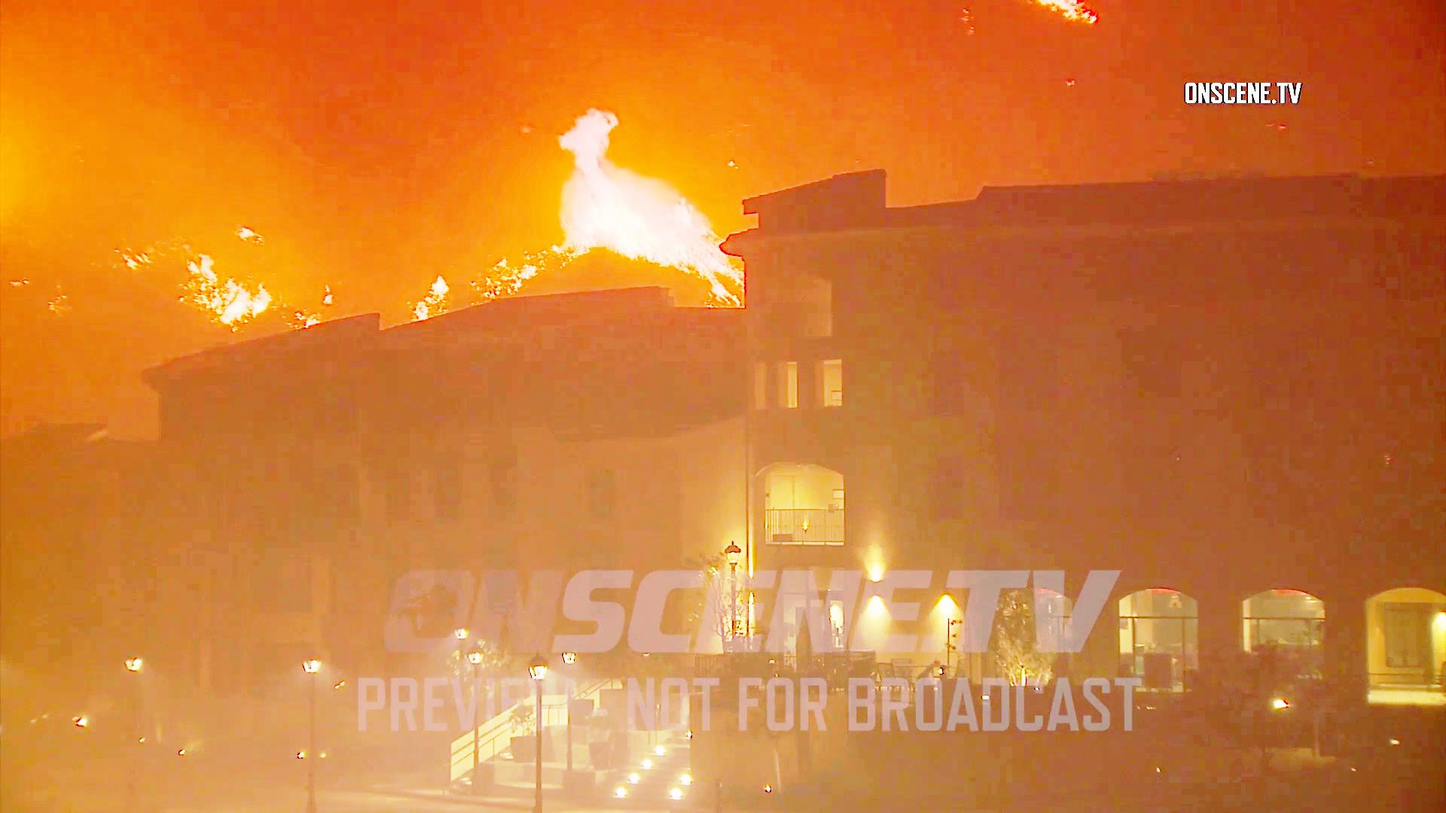fire: (513, 100, 730, 302), (87, 213, 283, 326)
smoke: (25, 0, 471, 238)
